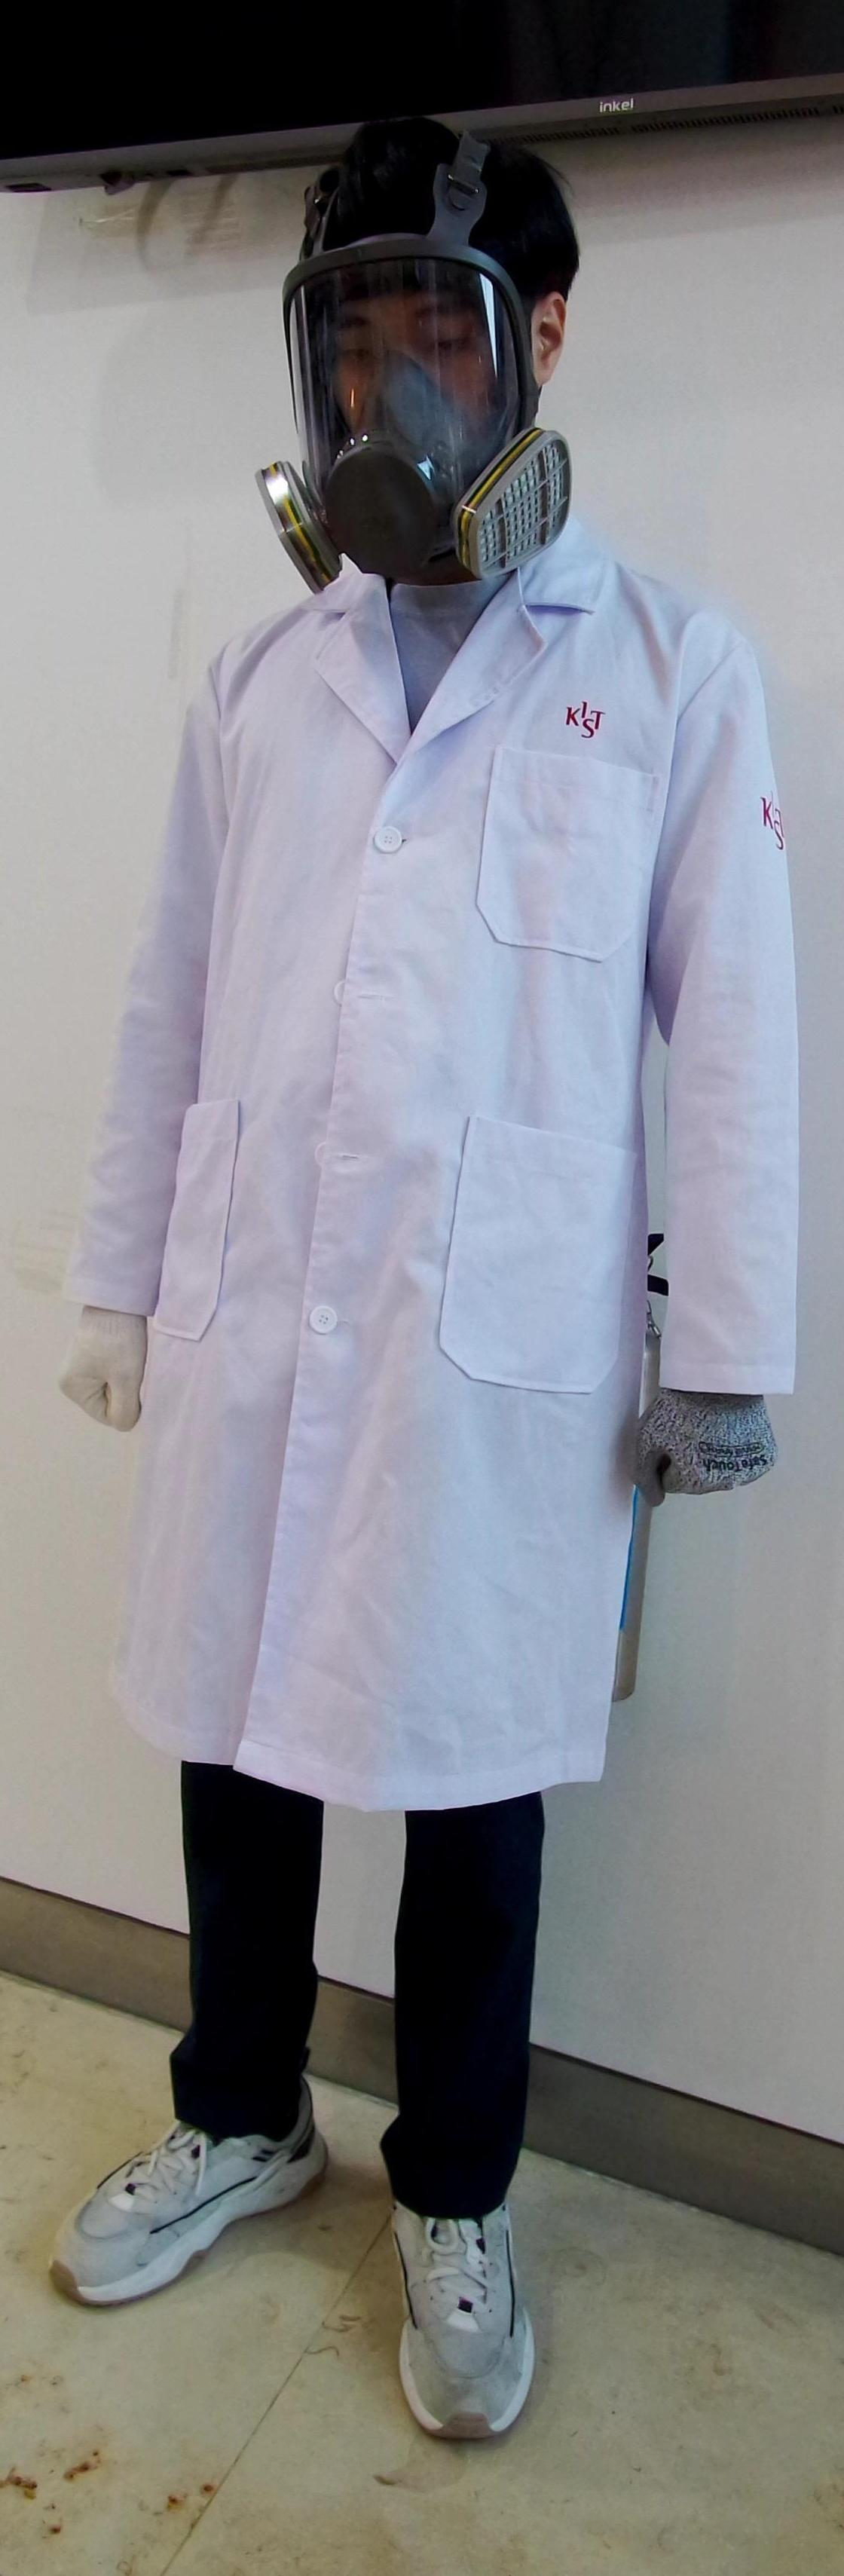lab_coat: (167, 582, 642, 1796)
